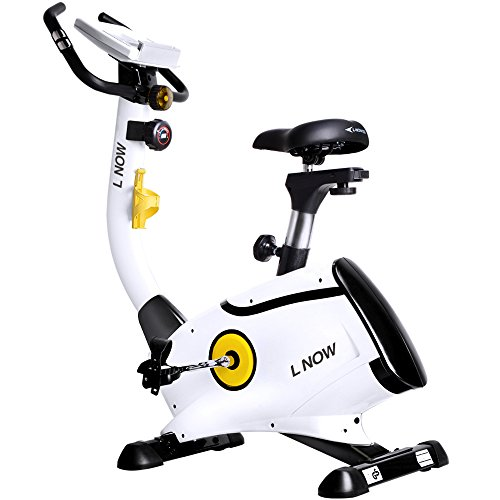gym_bike: (39, 6, 458, 486)
